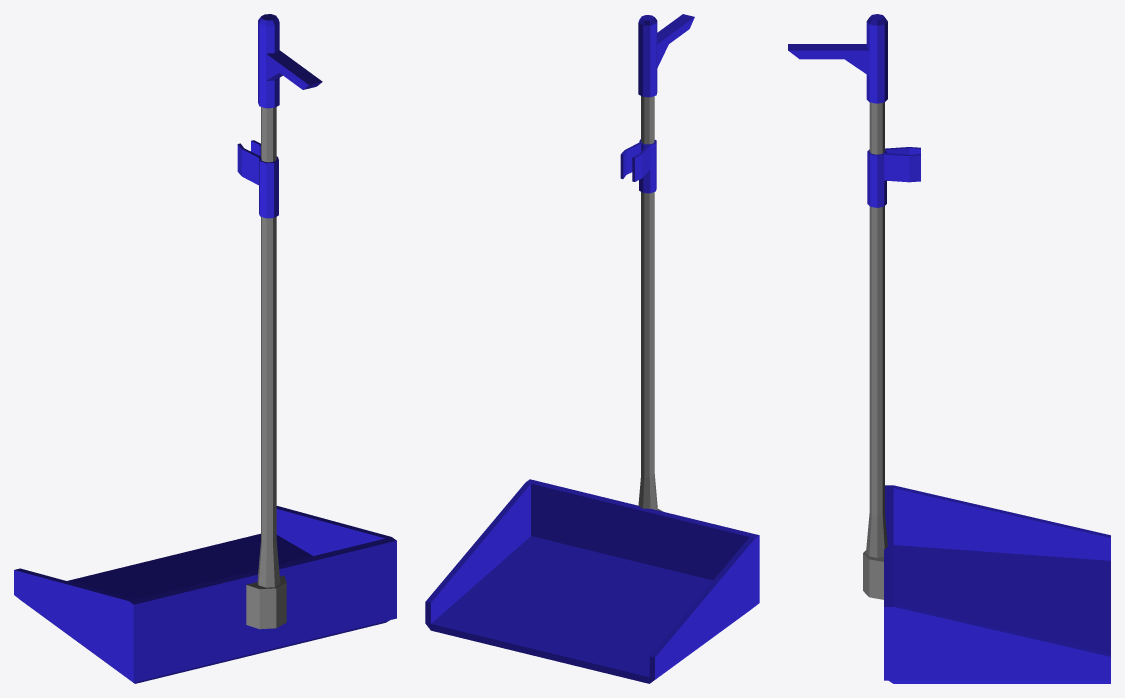
The model's file is Dust Pan.fbx.
3 renders of one model, left to right at view 1: azimuth 30°, elevation 25°; view 2: azimuth 150°, elevation 25°; view 3: azimuth 270°, elevation 25°, orthographic. The views are drawn at different scales.
Parts seen in each view (by area): view 1: Dust Pan; view 2: Dust Pan; view 3: Dust Pan.
Part boxes in pixels (<box>): Dust Pan: <box>14,14,396,683</box>; Dust Pan: <box>425,14,759,683</box>; Dust Pan: <box>788,14,1110,683</box>.
Bounding box in the file's own units: 0.7742 × 1.61 × 0.69.
